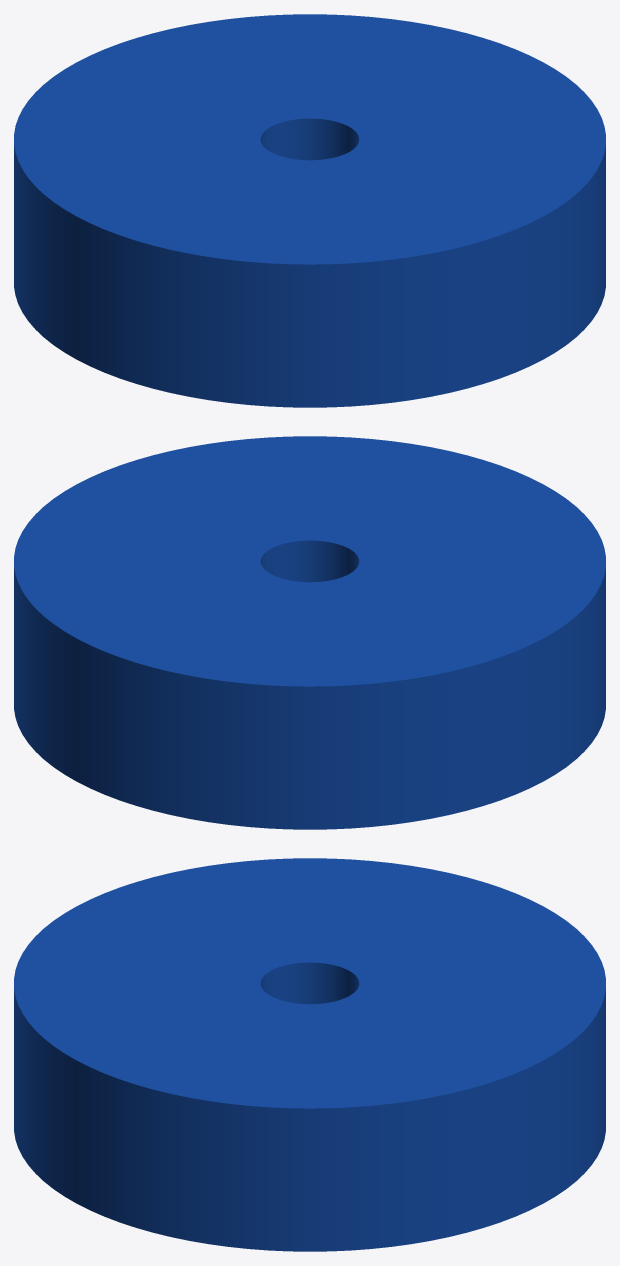
Rendered from Disk5.dae.
3 renders of one model, top to bottom at view 1: azimuth 30°, elevation 25°; view 2: azimuth 150°, elevation 25°; view 3: azimuth 270°, elevation 25°, orthographic.
Parts seen in each view (by area): view 1: ID2; view 2: ID2; view 3: ID2.
Part boxes in pixels (x1,y1,x2,y2): ID2: (14, 14, 605, 407); ID2: (14, 436, 605, 829); ID2: (14, 858, 605, 1251).
Size of the model in its own units: 0.03 by 0.03 by 0.008.
